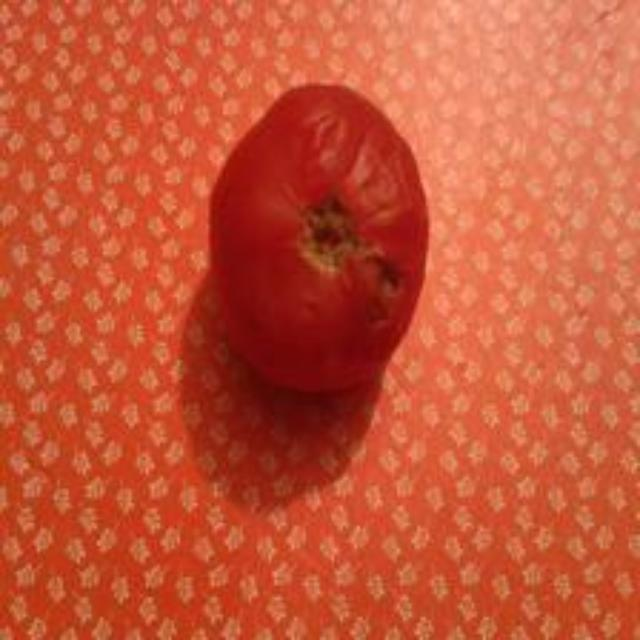defect: (202, 78, 437, 397)
